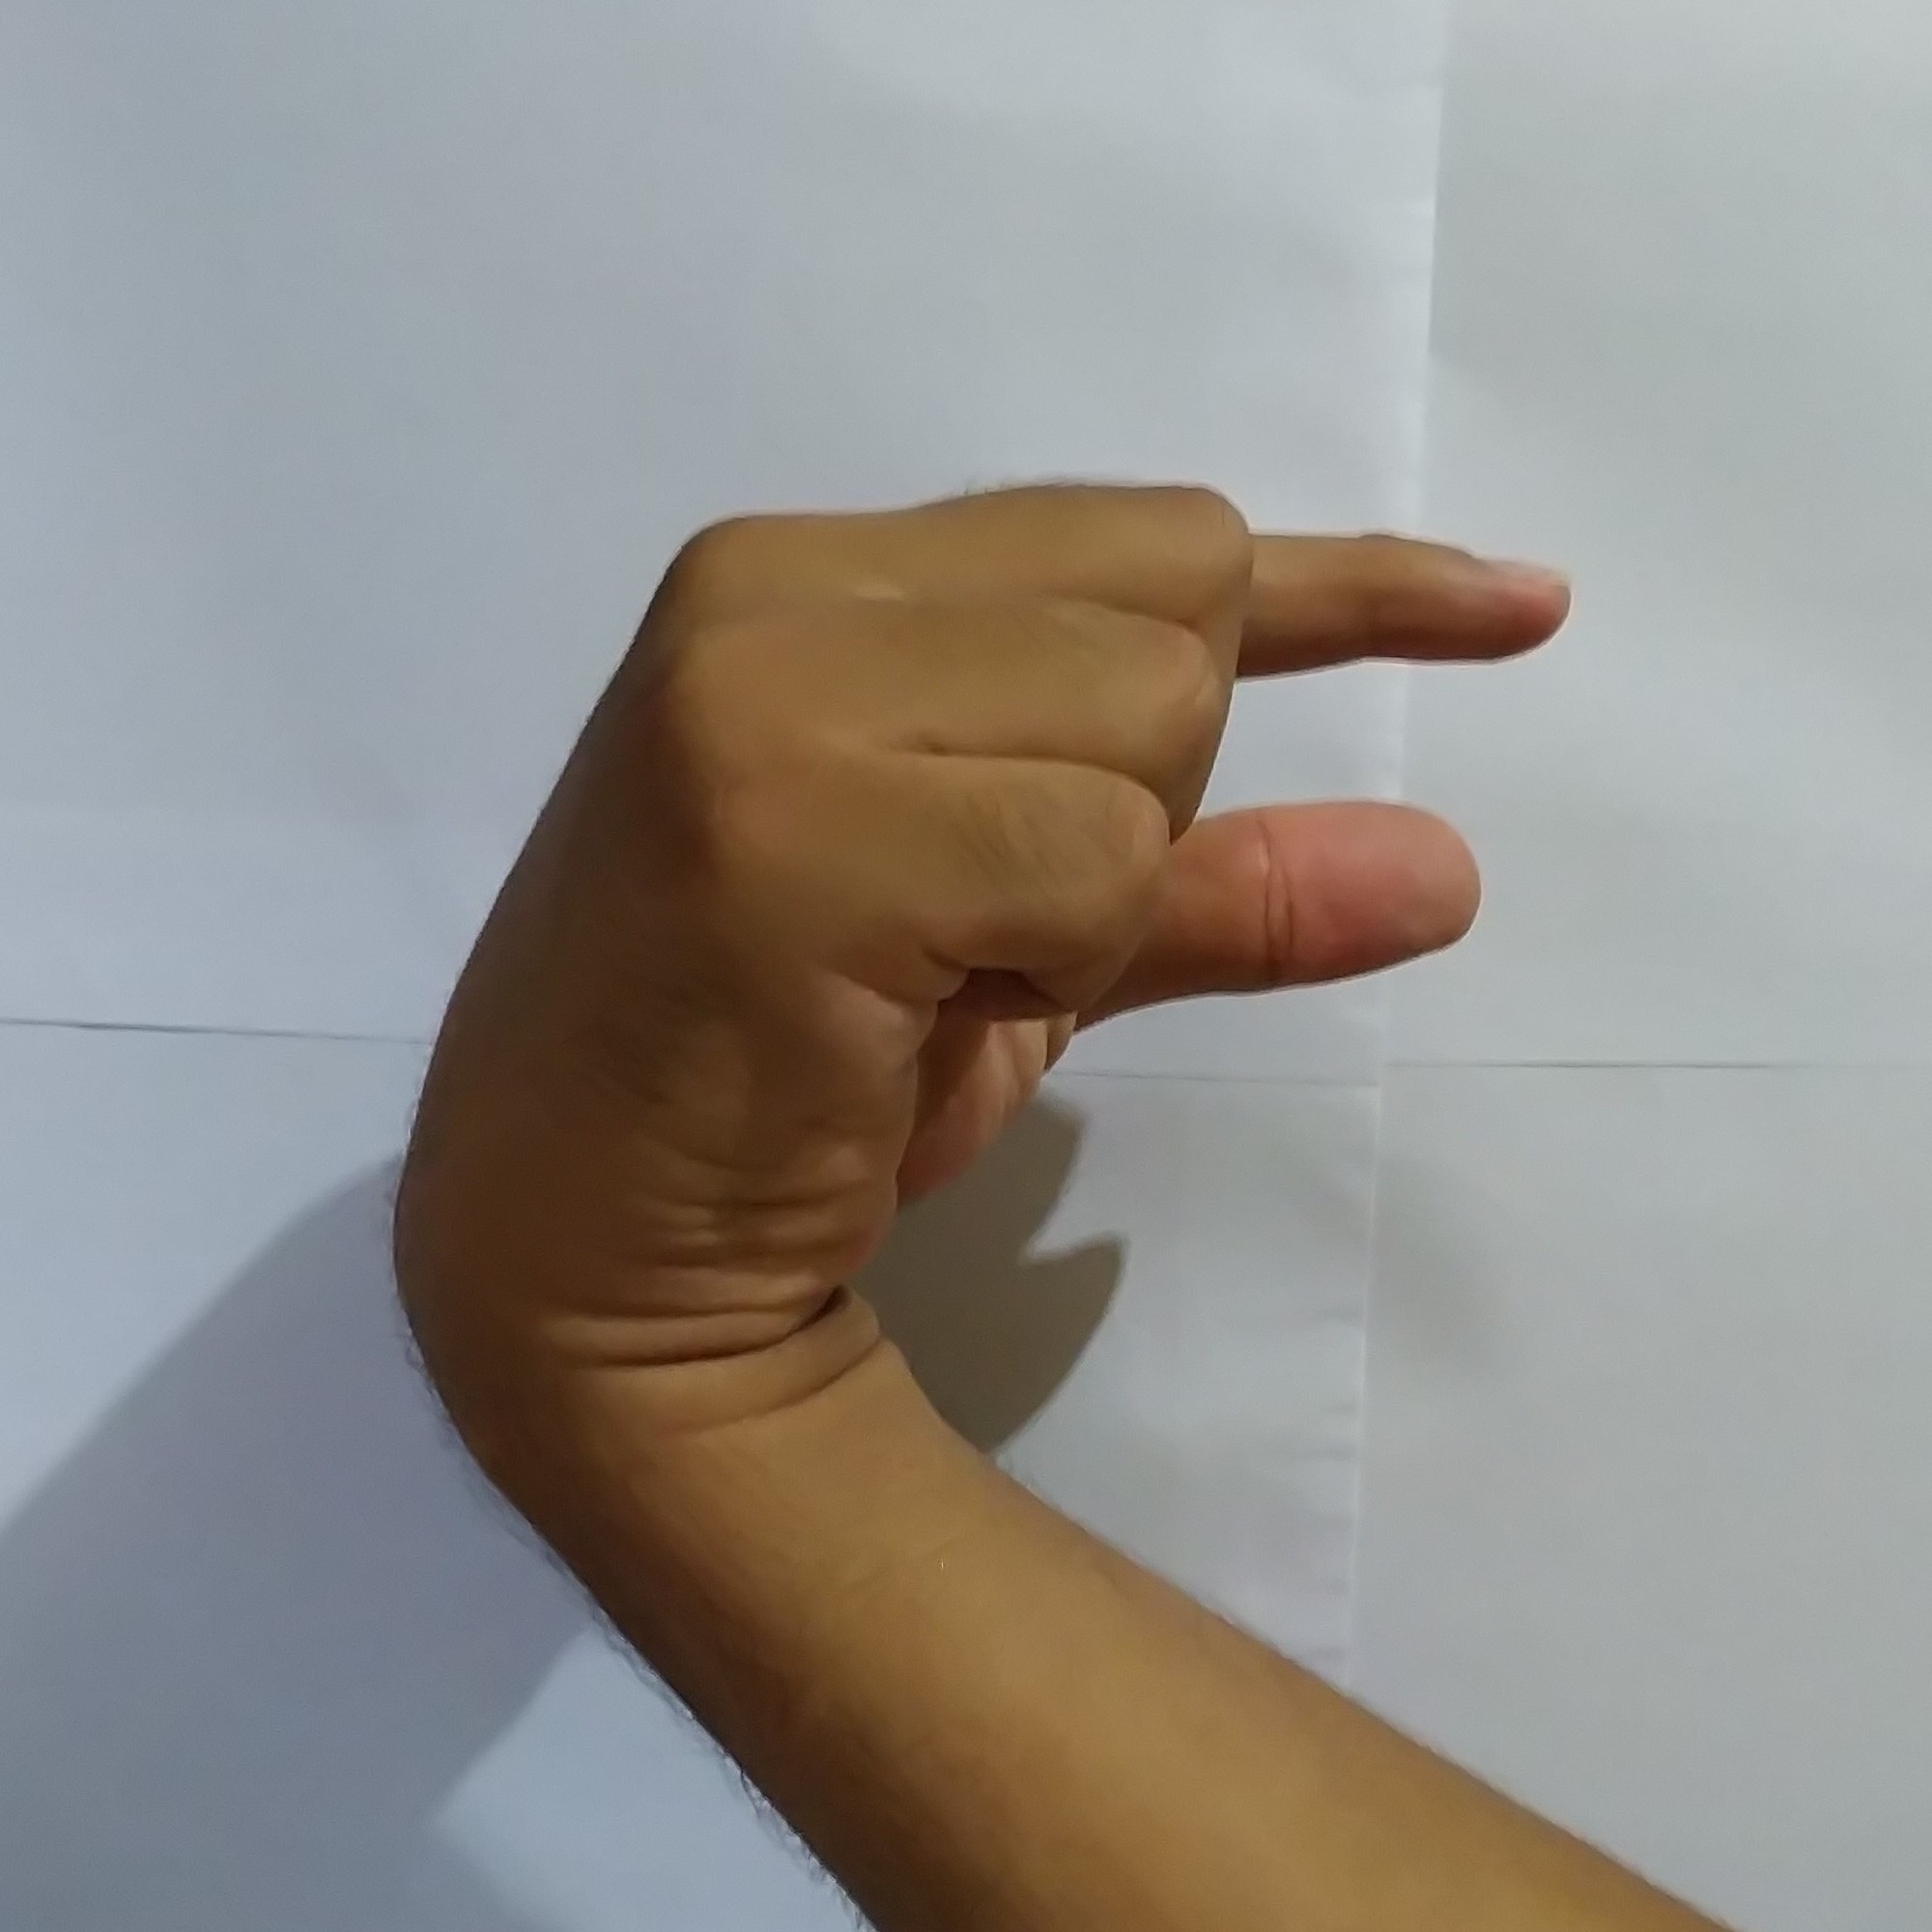G: (395, 449, 1591, 1256)
